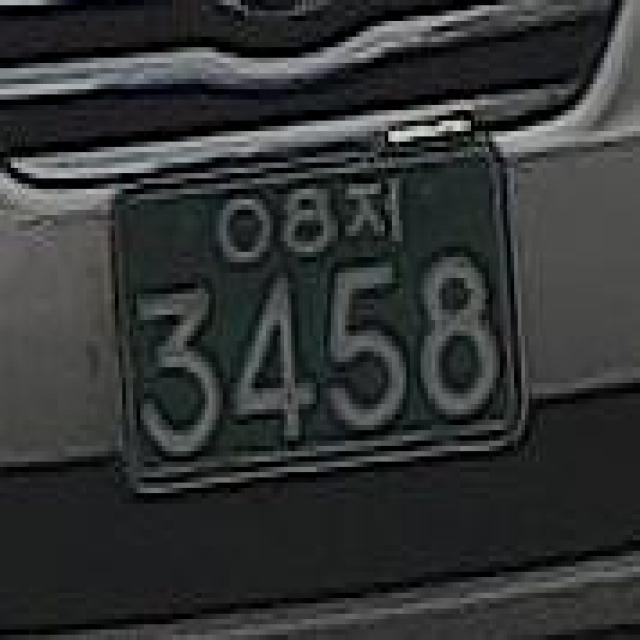illegal_plate: (92, 115, 543, 506)
